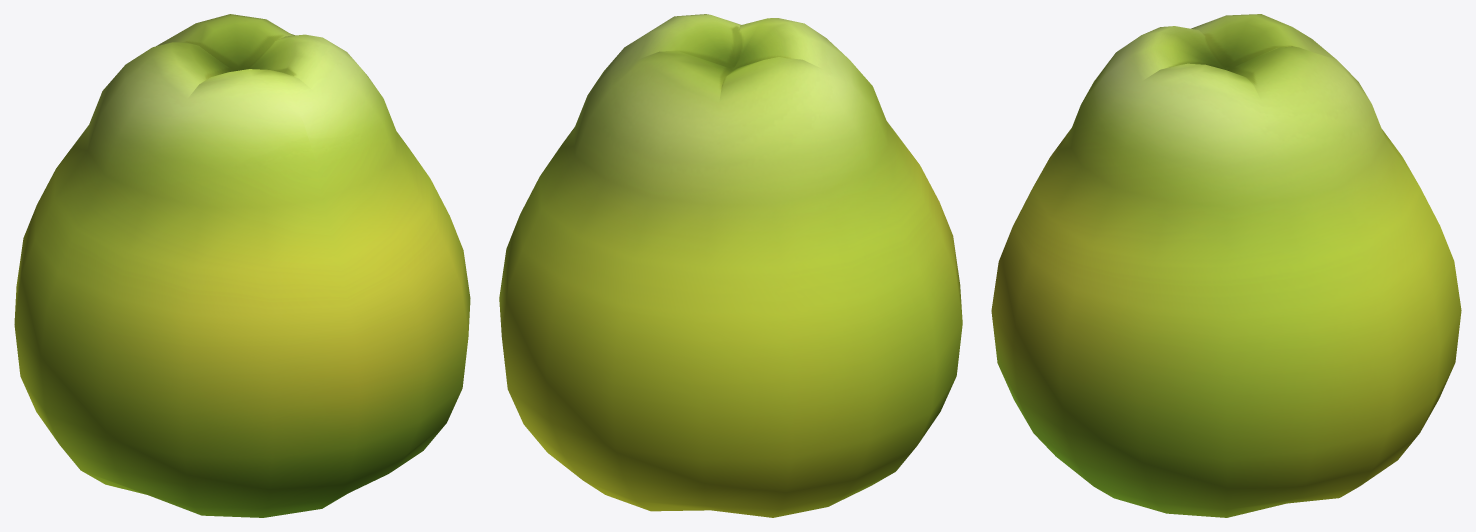
File: Quince_Green.fbx
3 views of the same model, side by side, from view 1: azimuth 30°, elevation 25°; view 2: azimuth 150°, elevation 25°; view 3: azimuth 270°, elevation 25° (orthographic).
Visible parts, largest first — view 1: Quince_Green; view 2: Quince_Green; view 3: Quince_Green.
Part boxes in pixels (x1,y1,x2,y2): Quince_Green: (14, 14, 470, 517); Quince_Green: (499, 14, 962, 517); Quince_Green: (991, 14, 1461, 517).
Bounding box in the file's own units: 36.74 × 36.17 × 36.74.
